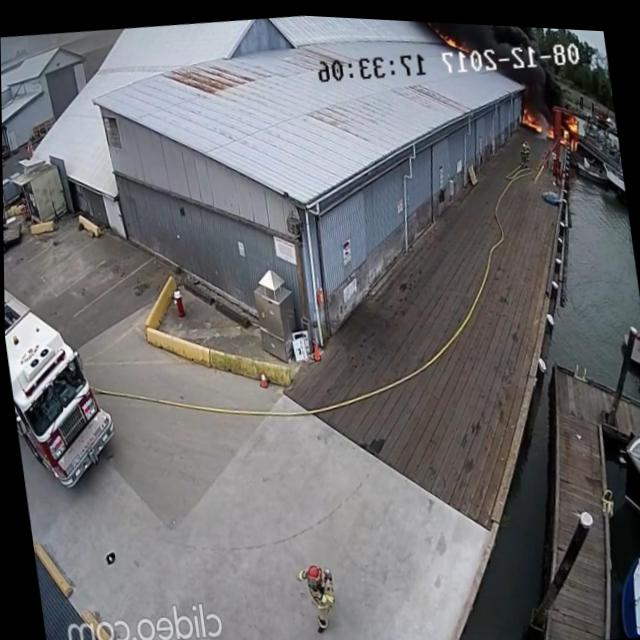fire: (517, 90, 554, 140), (554, 103, 586, 149), (437, 18, 469, 49)
